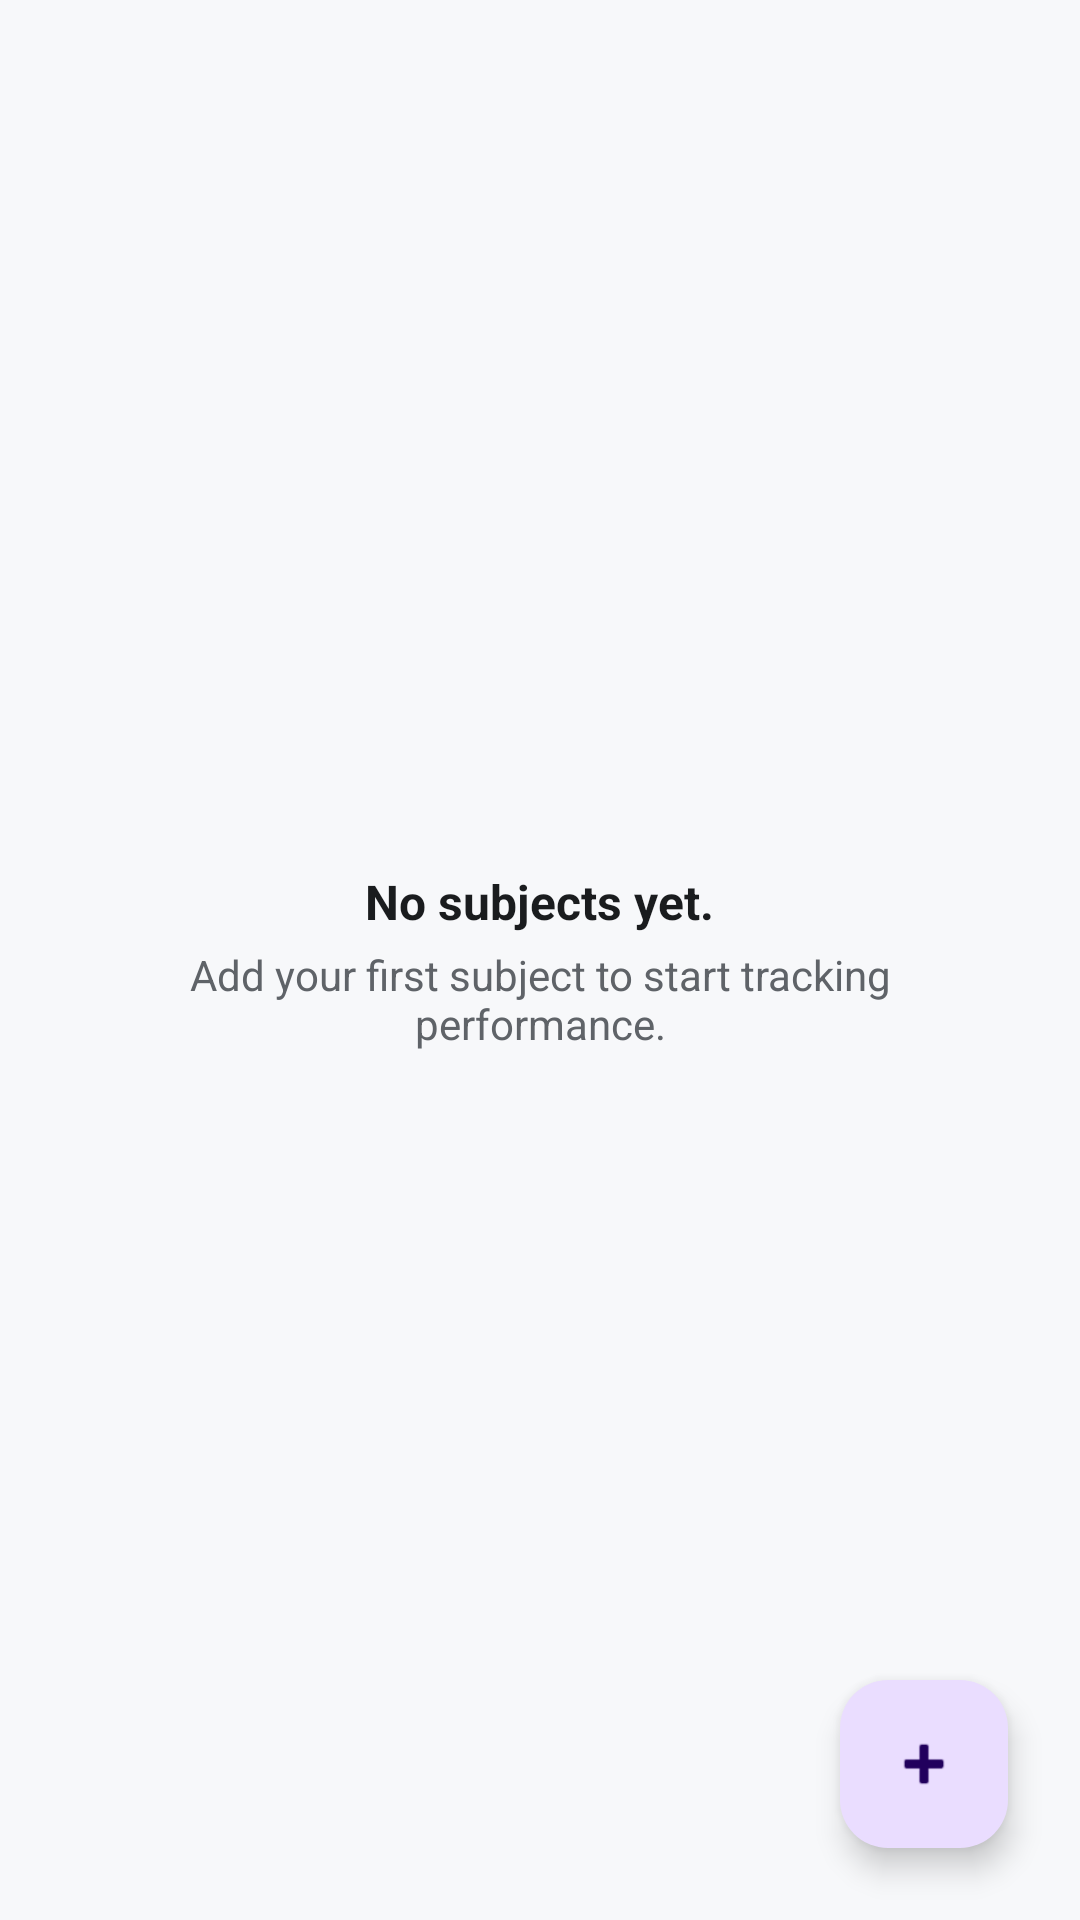

Where icons sit on this 1080×1920 app screen, as (x1, y1, x2, y2):
Add subject: (840, 1680, 1008, 1848)
